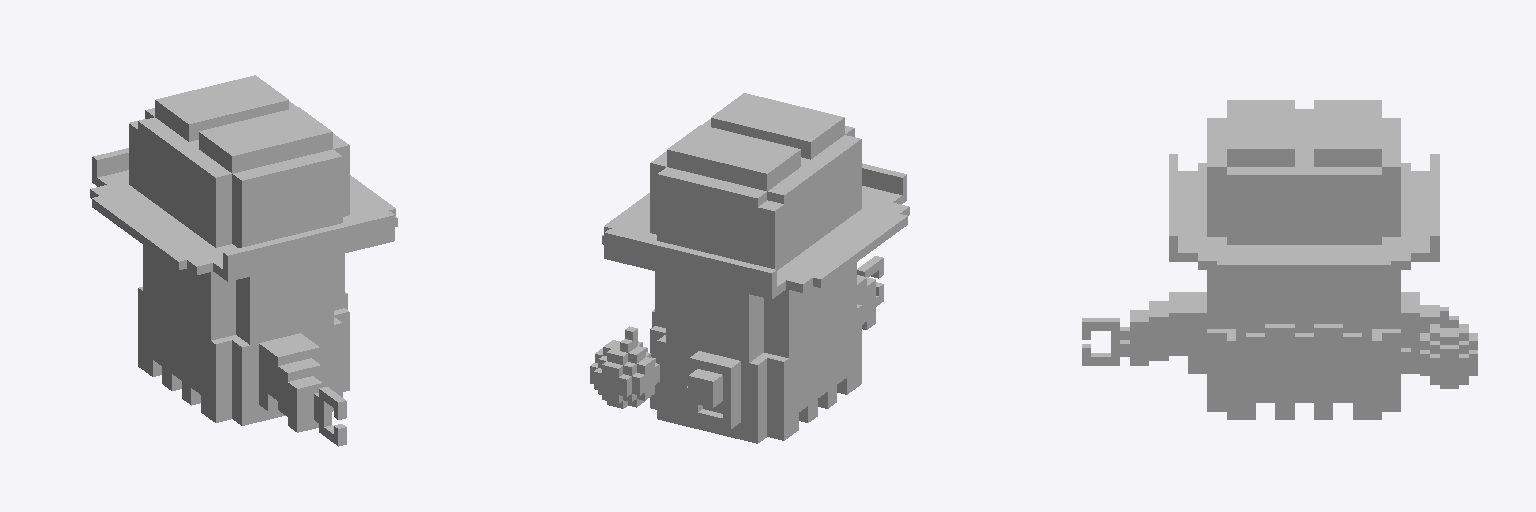
The model's file is Gotchi 3.vox.obj.
3 views of the same model, side by side, from view 1: azimuth 30°, elevation 25°; view 2: azimuth 150°, elevation 25°; view 3: azimuth 270°, elevation 25° (orthographic).
Parts seen in each view (by area): view 1: object 1; view 2: object 1; view 3: object 1.
Part boxes in pixels (bbox=[...]): object 1: bbox=[90, 75, 397, 446]; object 1: bbox=[590, 93, 909, 443]; object 1: bbox=[1082, 100, 1477, 419].
Bounding box in the file's own units: 2.6 × 3 × 4.1.